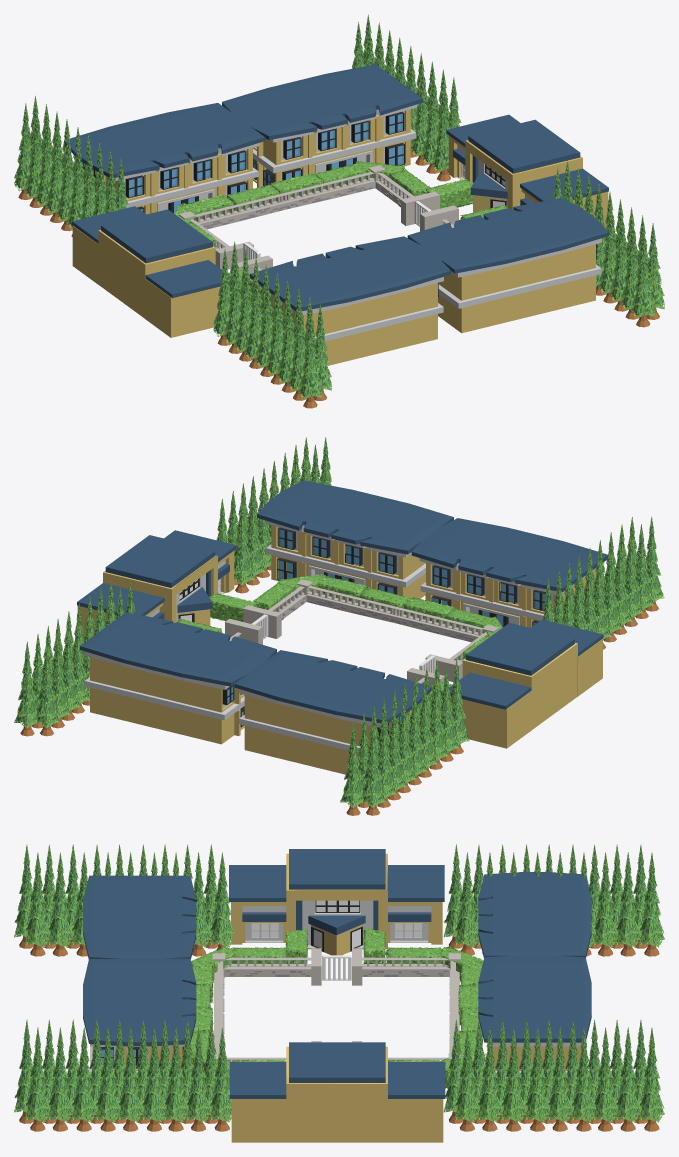
Rendered from BURDER.fbx.
3 views of the same model, one above another, from view 1: azimuth 30°, elevation 25°; view 2: azimuth 150°, elevation 25°; view 3: azimuth 270°, elevation 25° (orthographic). The views are drawn at different scales.
Visible parts, largest first — view 1: Cube.284; view 2: Cube.284; view 3: Cube.284.
Part boxes in pixels (box(x1,y1,x2,y2)): Cube.284: box(14, 14, 664, 408); Cube.284: box(14, 437, 664, 815); Cube.284: box(14, 844, 664, 1142).
Size of the model in its own units: 35776 by 7335 by 42732.
